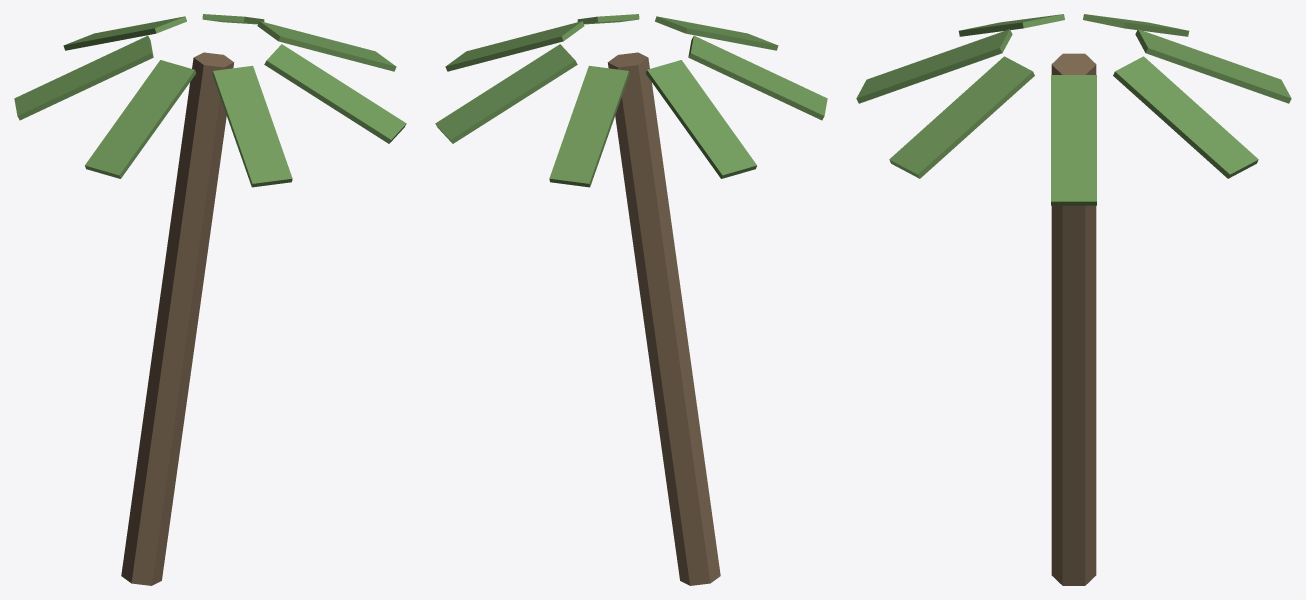
Rendered from palm.glb.
3 views of the same model, side by side, from view 1: azimuth 30°, elevation 25°; view 2: azimuth 150°, elevation 25°; view 3: azimuth 270°, elevation 25° (orthographic). The views are drawn at different scales.
Parts seen in each view (by area): view 1: palm; view 2: palm; view 3: palm.
Part boxes in pixels (x1=…): palm: x1=14, y1=14, x2=406, y2=585; palm: x1=435, y1=14, x2=827, y2=585; palm: x1=856, y1=14, x2=1291, y2=585.
Bounding box in the file's own units: 4.15 × 6.17 × 4.26.
